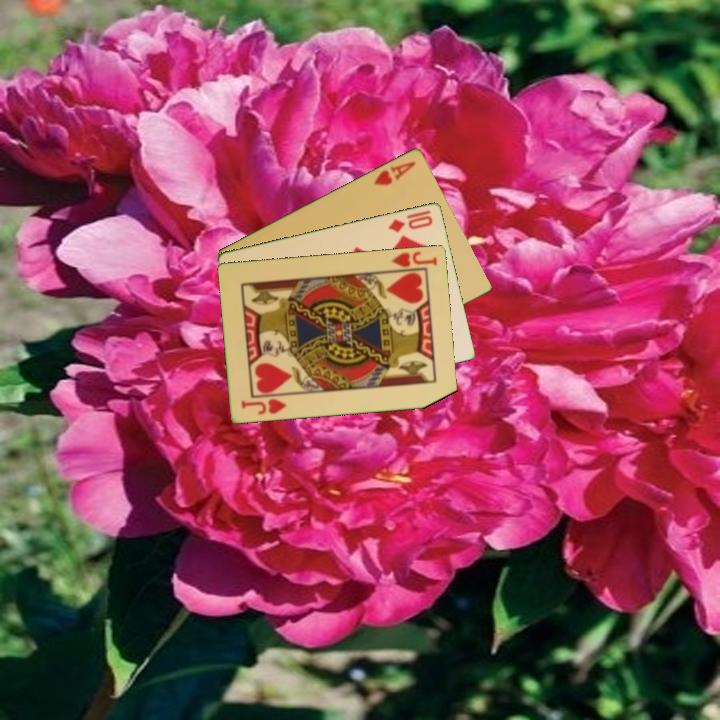10d: (384, 206, 436, 235)
Ah: (370, 157, 419, 188)
Jh: (384, 247, 440, 274), (238, 394, 290, 417)
